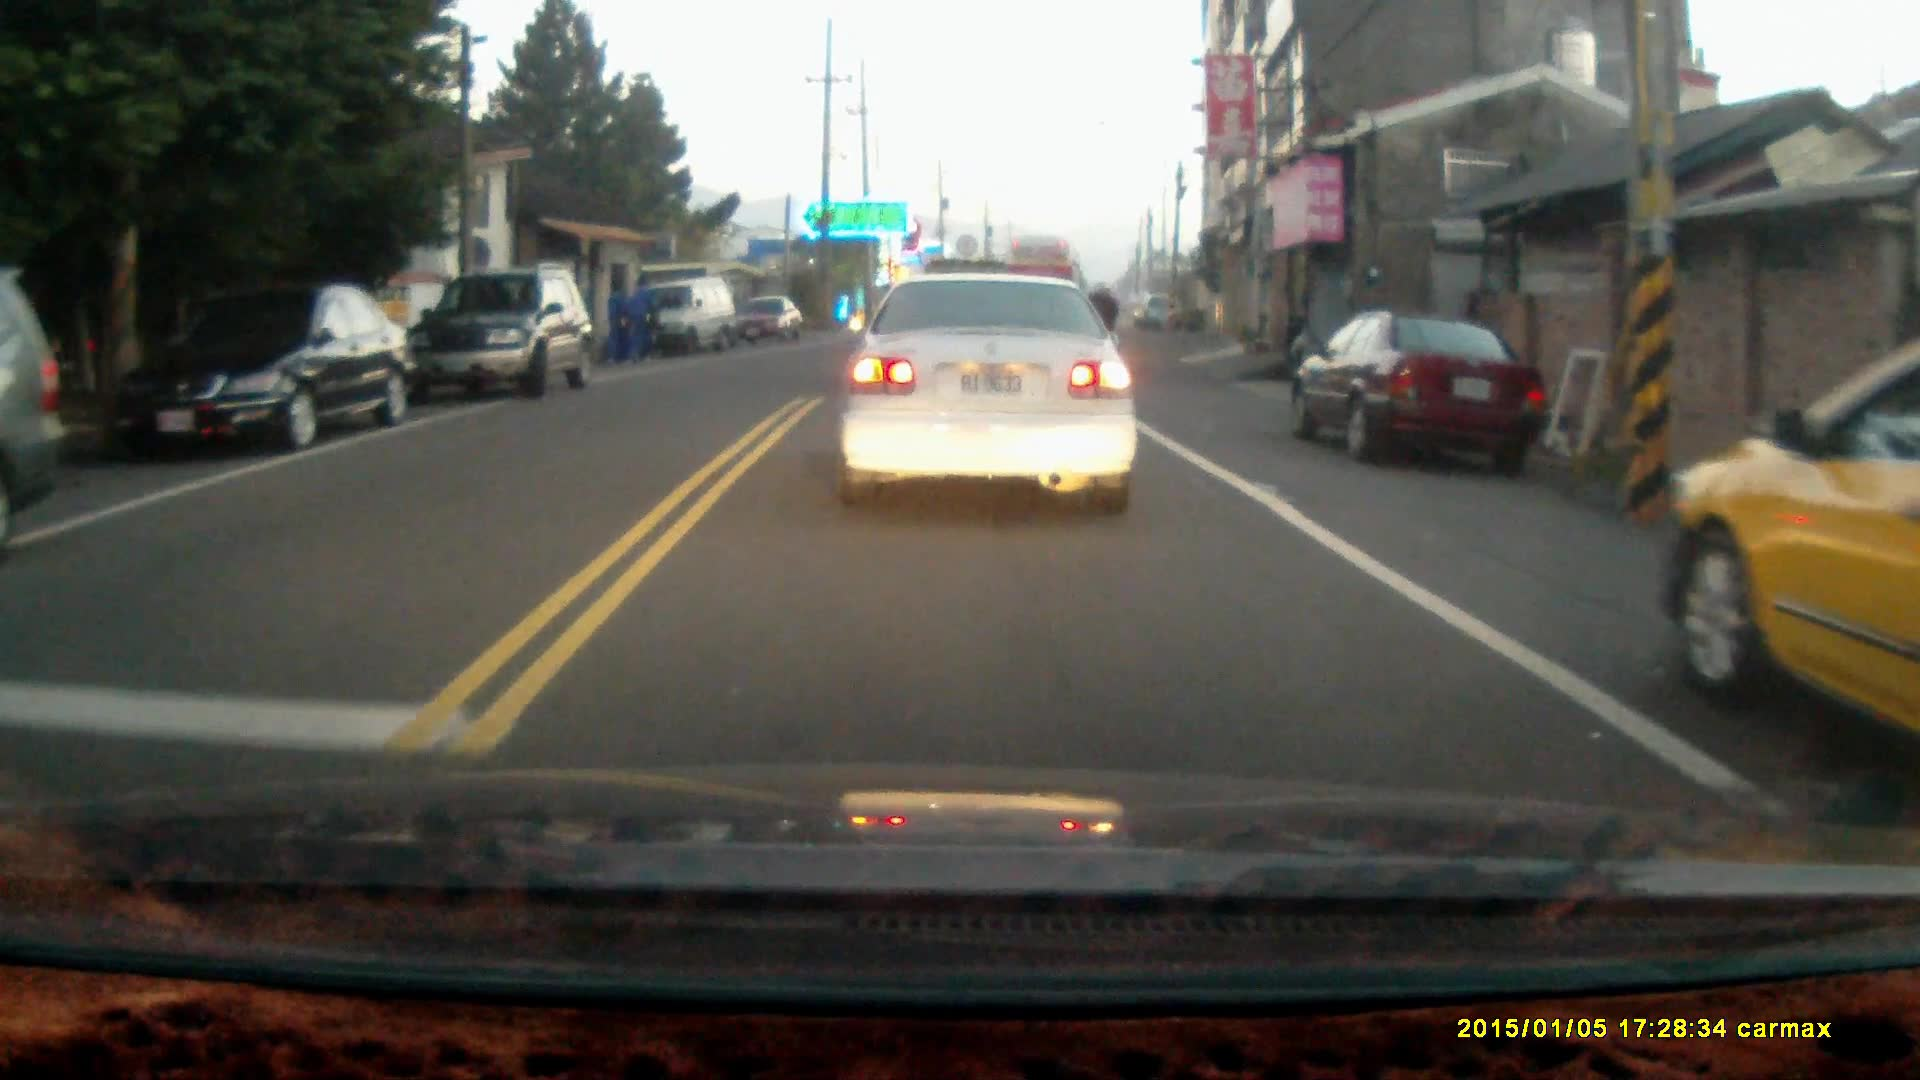pedestrian: (626, 269, 655, 362), (602, 271, 632, 361)
vehicle: (1673, 329, 1920, 743), (840, 266, 1142, 513), (115, 282, 413, 452), (1292, 307, 1549, 472), (407, 266, 594, 402), (631, 282, 744, 361), (720, 293, 804, 353)
